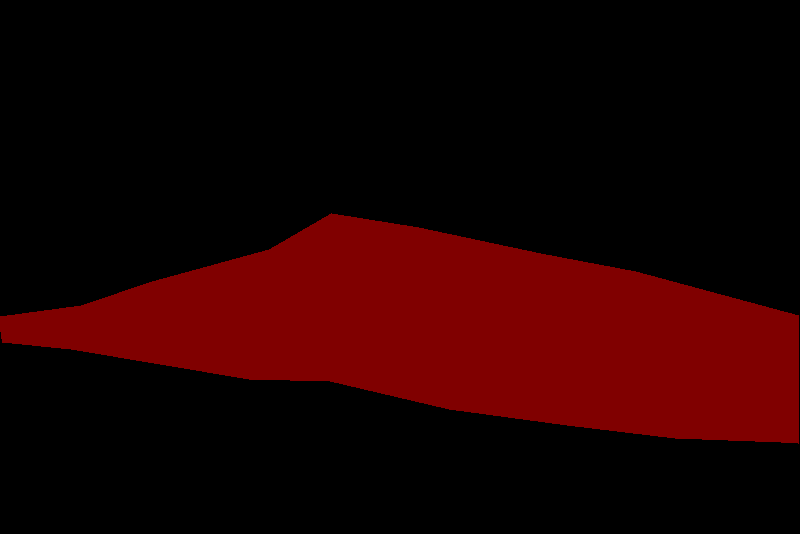fire: (0, 213, 798, 443)
